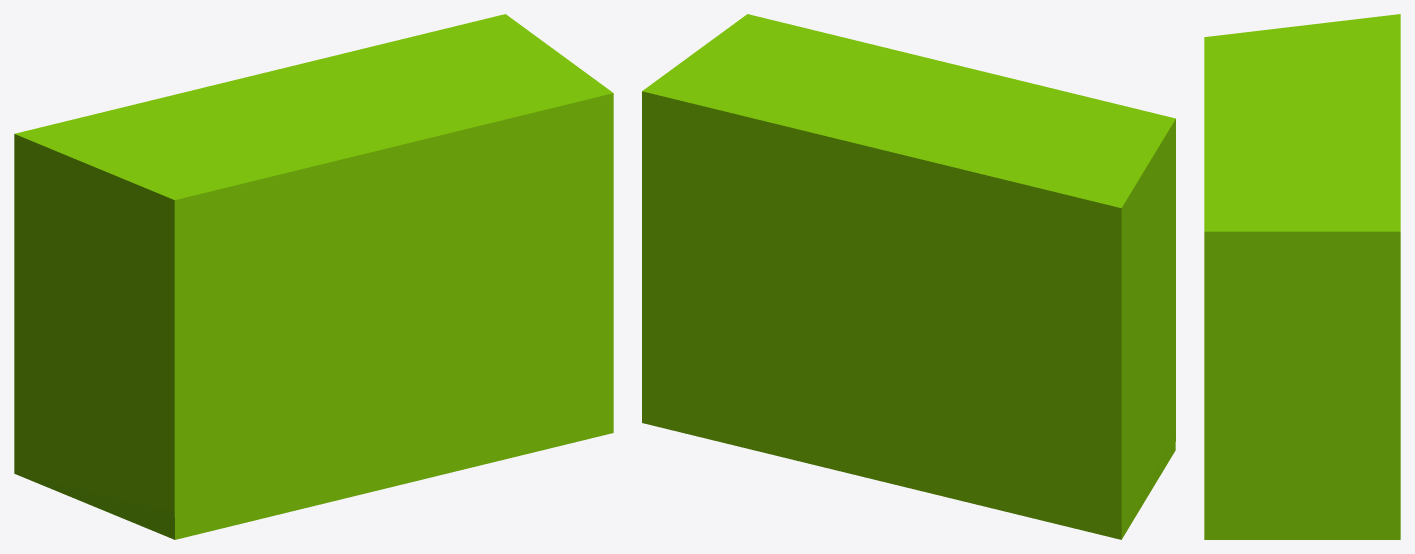
File: simple_example_hole_part_18.obj
The picture shows the model from 3 angles, left to right: view 1: azimuth 30°, elevation 25°; view 2: azimuth 150°, elevation 25°; view 3: azimuth 270°, elevation 25°; orthographic projection. The views are drawn at different scales.
Bounding box in the file's own units: 18.48 × 12.21 × 7.04.
